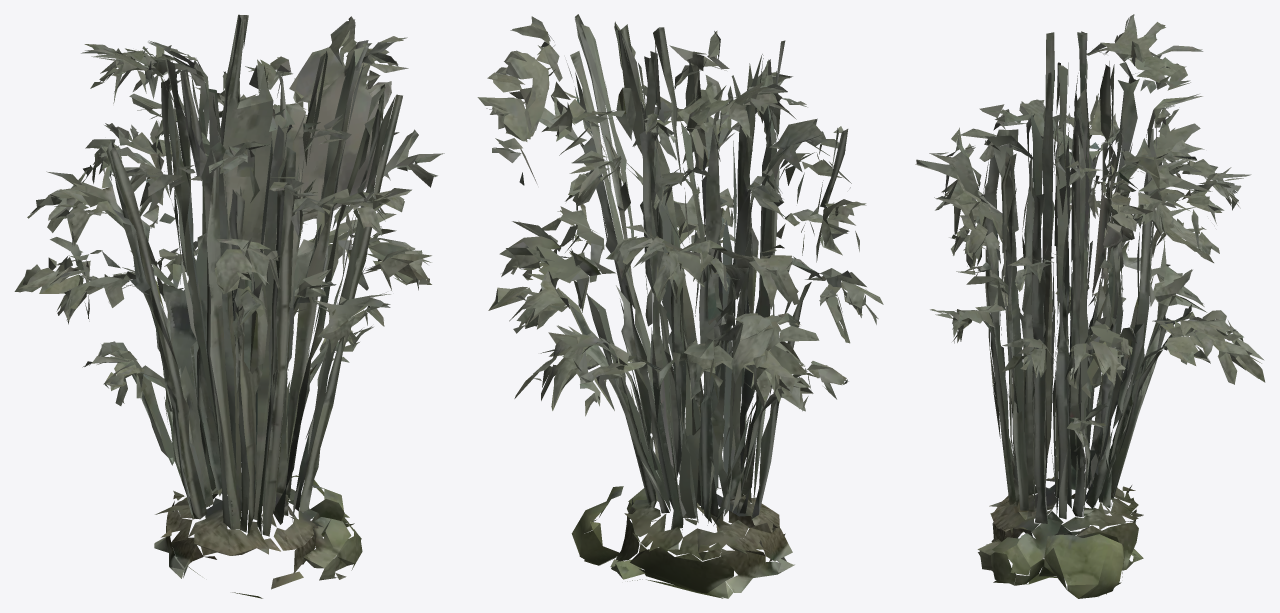
The model's file is bambooGrove.glb.
The picture shows the model from 3 angles, left to right: view 1: azimuth 30°, elevation 25°; view 2: azimuth 150°, elevation 25°; view 3: azimuth 270°, elevation 25°; orthographic projection. The views are drawn at different scales.
Parts seen in each view (by area): view 1: Prop_bambooGrove; view 2: Prop_bambooGrove; view 3: Prop_bambooGrove.
Part boxes in pixels (left/top/right/bottom): Prop_bambooGrove: left=14, top=14, right=444, bottom=598; Prop_bambooGrove: left=477, top=14, right=883, bottom=598; Prop_bambooGrove: left=915, top=14, right=1265, bottom=598.
Bounding box in the file's own units: 4.04 × 5.79 × 3.62.
Materials: 1 (1 with a texture image).
